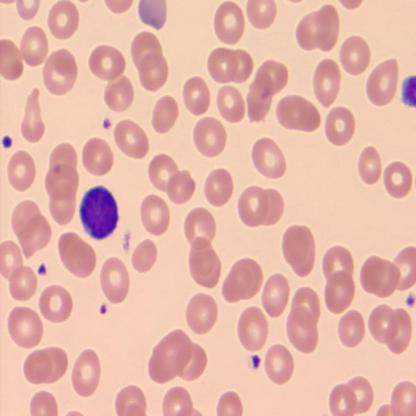Lymphocyte: (78, 186, 119, 238)
